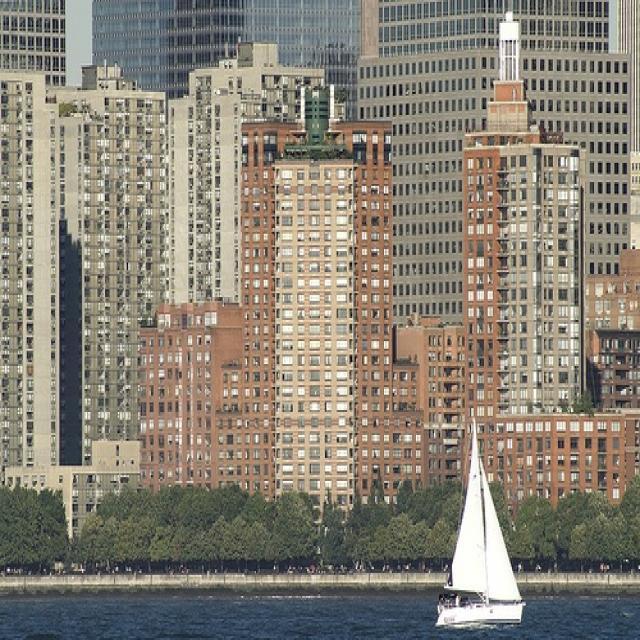boat: (435, 409, 524, 632)
